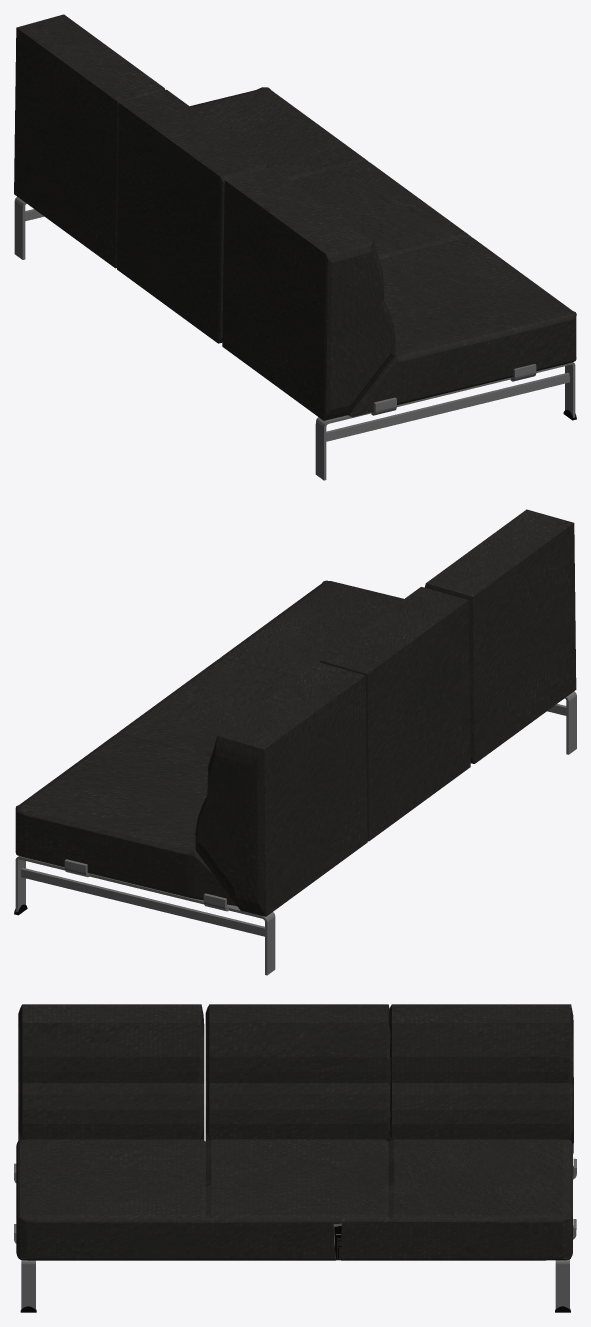
File: Bench3.fbx
The picture shows the model from 3 angles, top to bottom: view 1: azimuth 30°, elevation 25°; view 2: azimuth 150°, elevation 25°; view 3: azimuth 270°, elevation 25°; orthographic projection. The views are drawn at different scales.
Parts seen in each view (by area): view 1: Bench3; view 2: Bench3; view 3: Bench3.
Boxes of the visible parts, x1,y1,x2,y2 form: Bench3: [14, 14, 576, 480]; Bench3: [14, 509, 576, 975]; Bench3: [14, 1004, 576, 1312].
Bounding box in the file's own units: 2610 × 2231 × 5641.
1 material, 1 textured.
